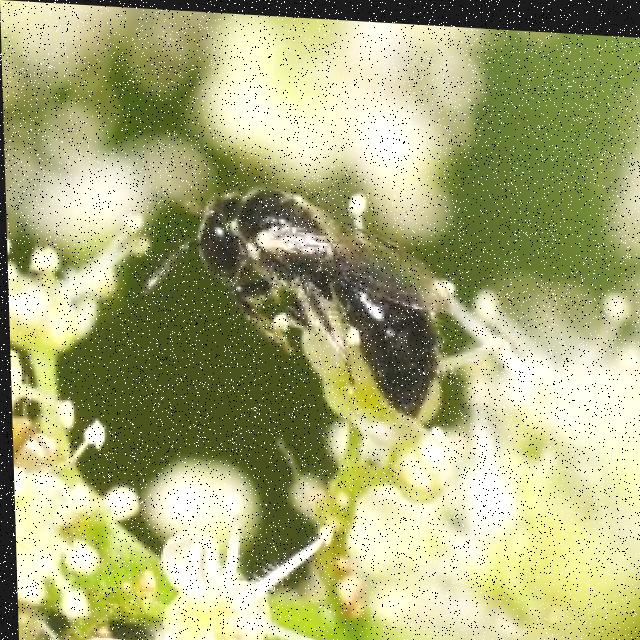Braunsapis: (183, 163, 485, 443)
